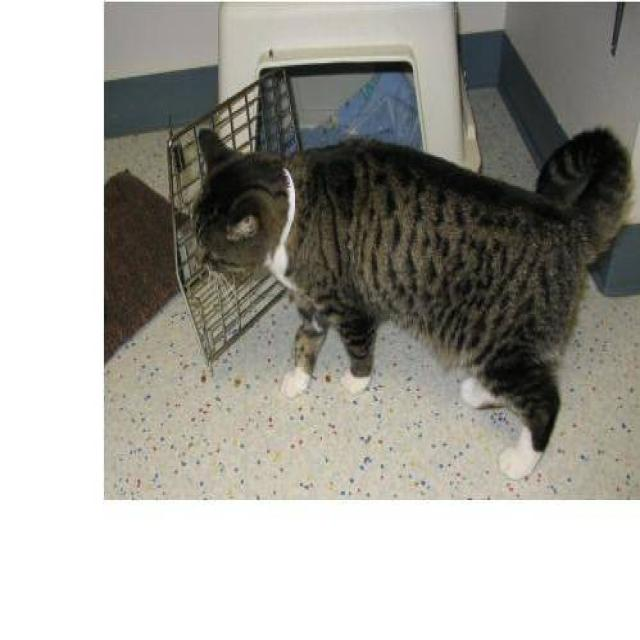cat: (190, 124, 632, 480)
